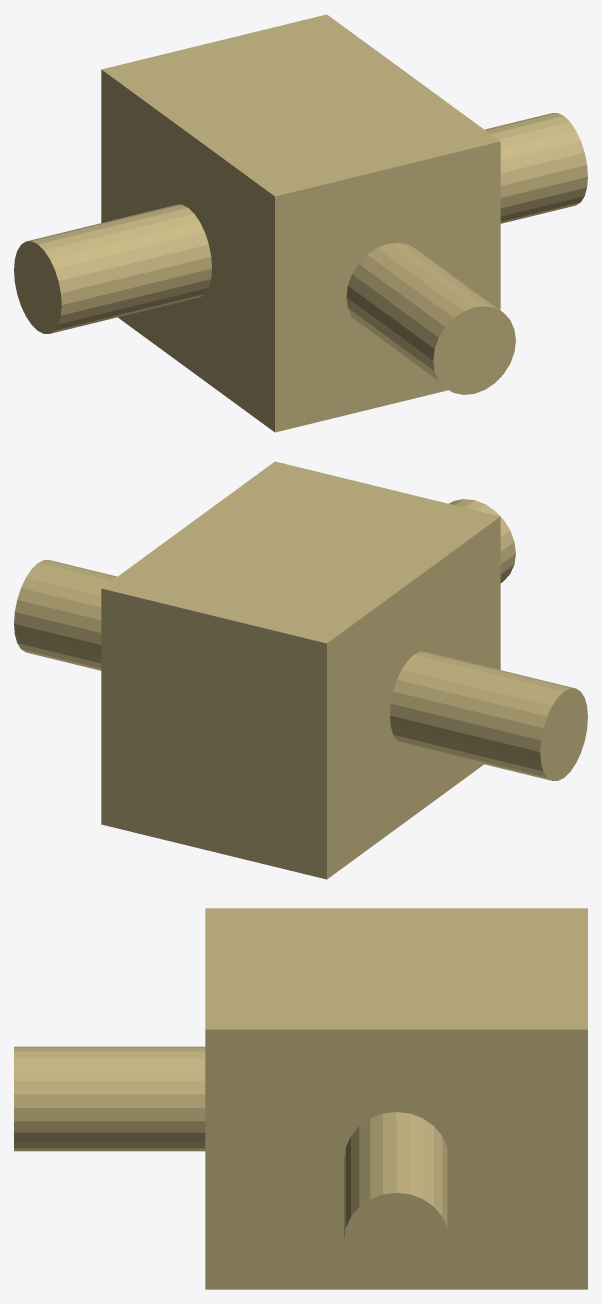
3 renders of one model, top to bottom at view 1: azimuth 30°, elevation 25°; view 2: azimuth 150°, elevation 25°; view 3: azimuth 270°, elevation 25°, orthographic. The views are drawn at different scales.
Parts seen in each view (by area): view 1: world; view 2: world; view 3: world.
Part boxes in pixels (left/top/right/bottom): world: left=14, top=14, right=587, bottom=432; world: left=14, top=461, right=587, bottom=879; world: left=14, top=908, right=587, bottom=1289.
Size of the model in its own units: 1.2 by 0.516 by 1.03.
